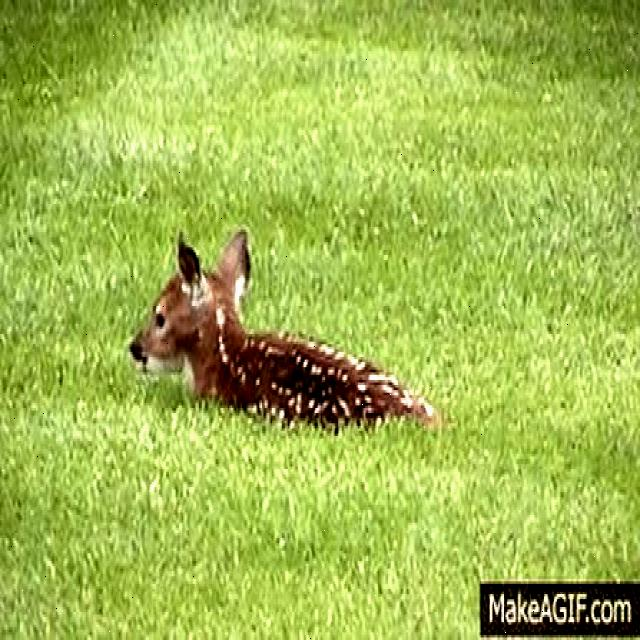deer: (125, 218, 432, 454)
